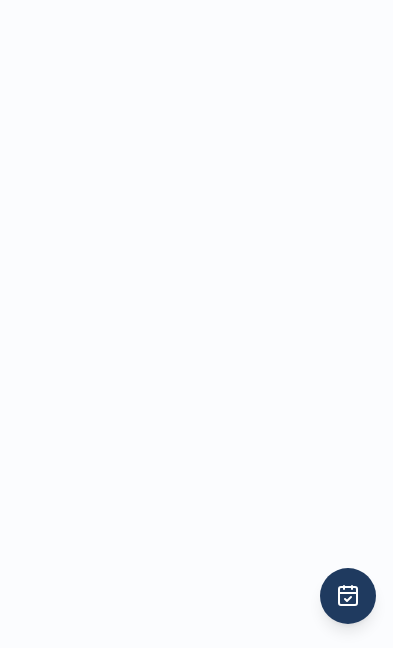
Test: Floating assistant widget › greets the student by first name and offers three suggestions
Click the button named "Open EventHub assistant" at (348, 596), box [320,568,376,624]
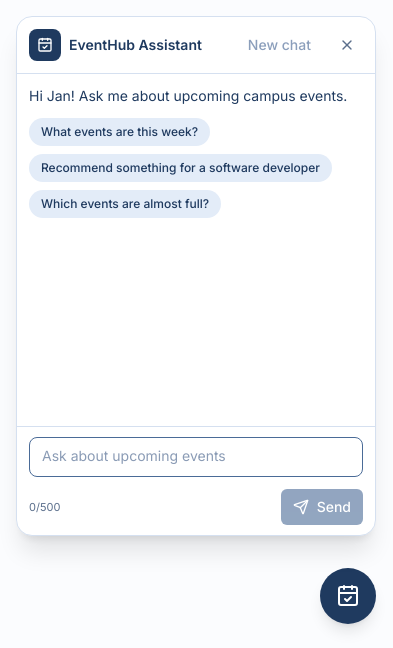
Check: the element "EventHub Assistant" shows "Hi Jan! Ask me about upcoming campus events."
Check: the number of buttons "What events are this week?" is 3, box [29,118,210,146]; [29,154,332,182]; [29,190,221,218]
